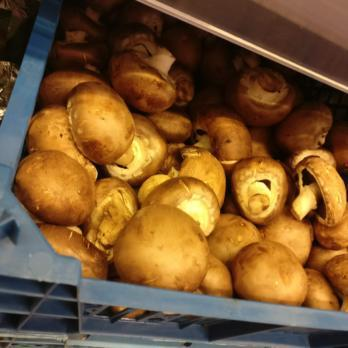Mushroom: (59, 69, 292, 246), (246, 114, 348, 296)
